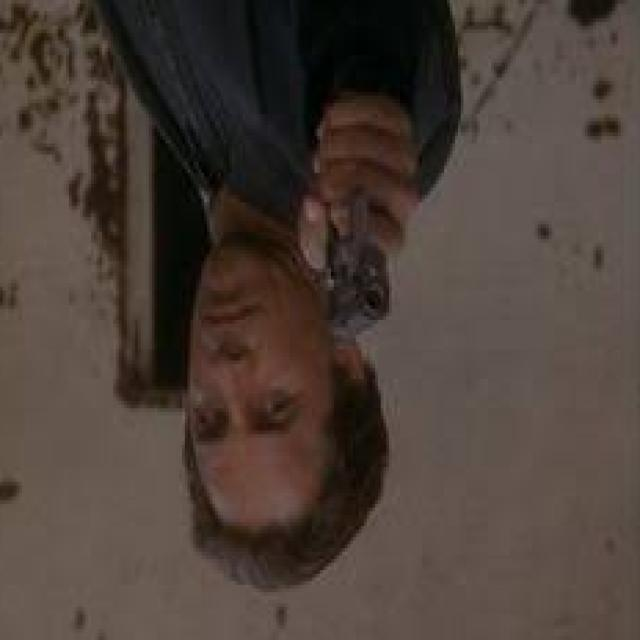gun: (300, 170, 437, 370)
